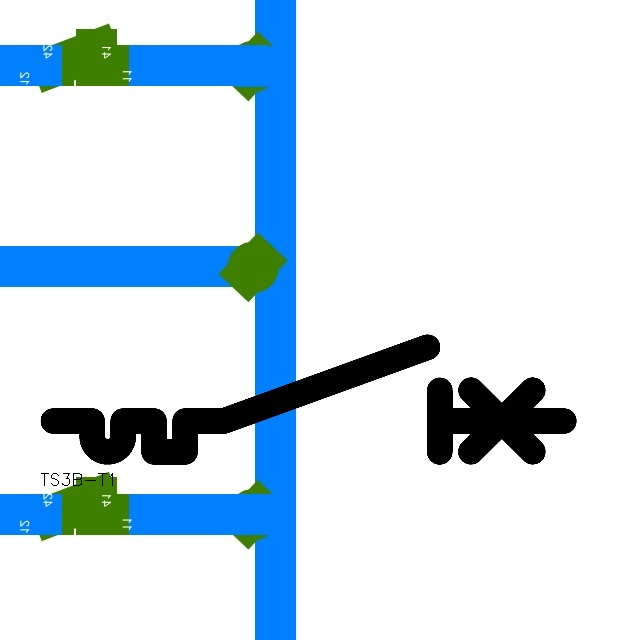interruptor_termomagnetico: (40, 334, 577, 465)
